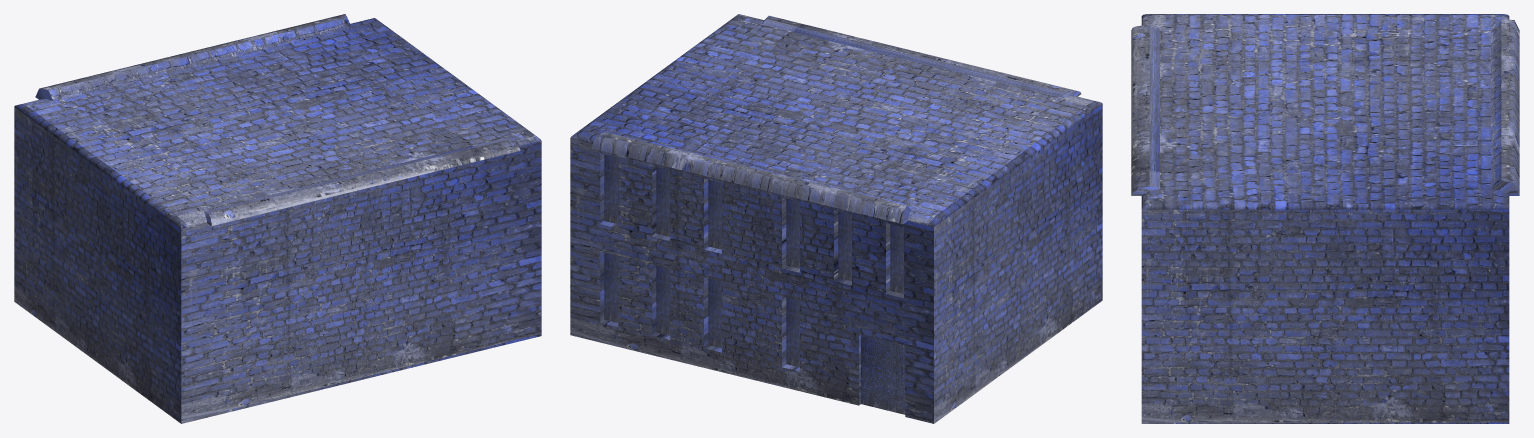
Rendered from test_Building3 (1).fbx.
3 views of the same model, side by side, from view 1: azimuth 30°, elevation 25°; view 2: azimuth 150°, elevation 25°; view 3: azimuth 270°, elevation 25° (orthographic). The views are drawn at different scales.
Parts seen in each view (by area): view 1: pCube2; view 2: pCube2; view 3: pCube2.
Part boxes in pixels (left/top/right/bottom): pCube2: left=14, top=14, right=541, bottom=423; pCube2: left=570, top=14, right=1102, bottom=423; pCube2: left=1131, top=14, right=1519, bottom=423.
Size of the model in its own units: 107 by 58.58 by 90.77.
Materials: 1 (1 with a texture image).
